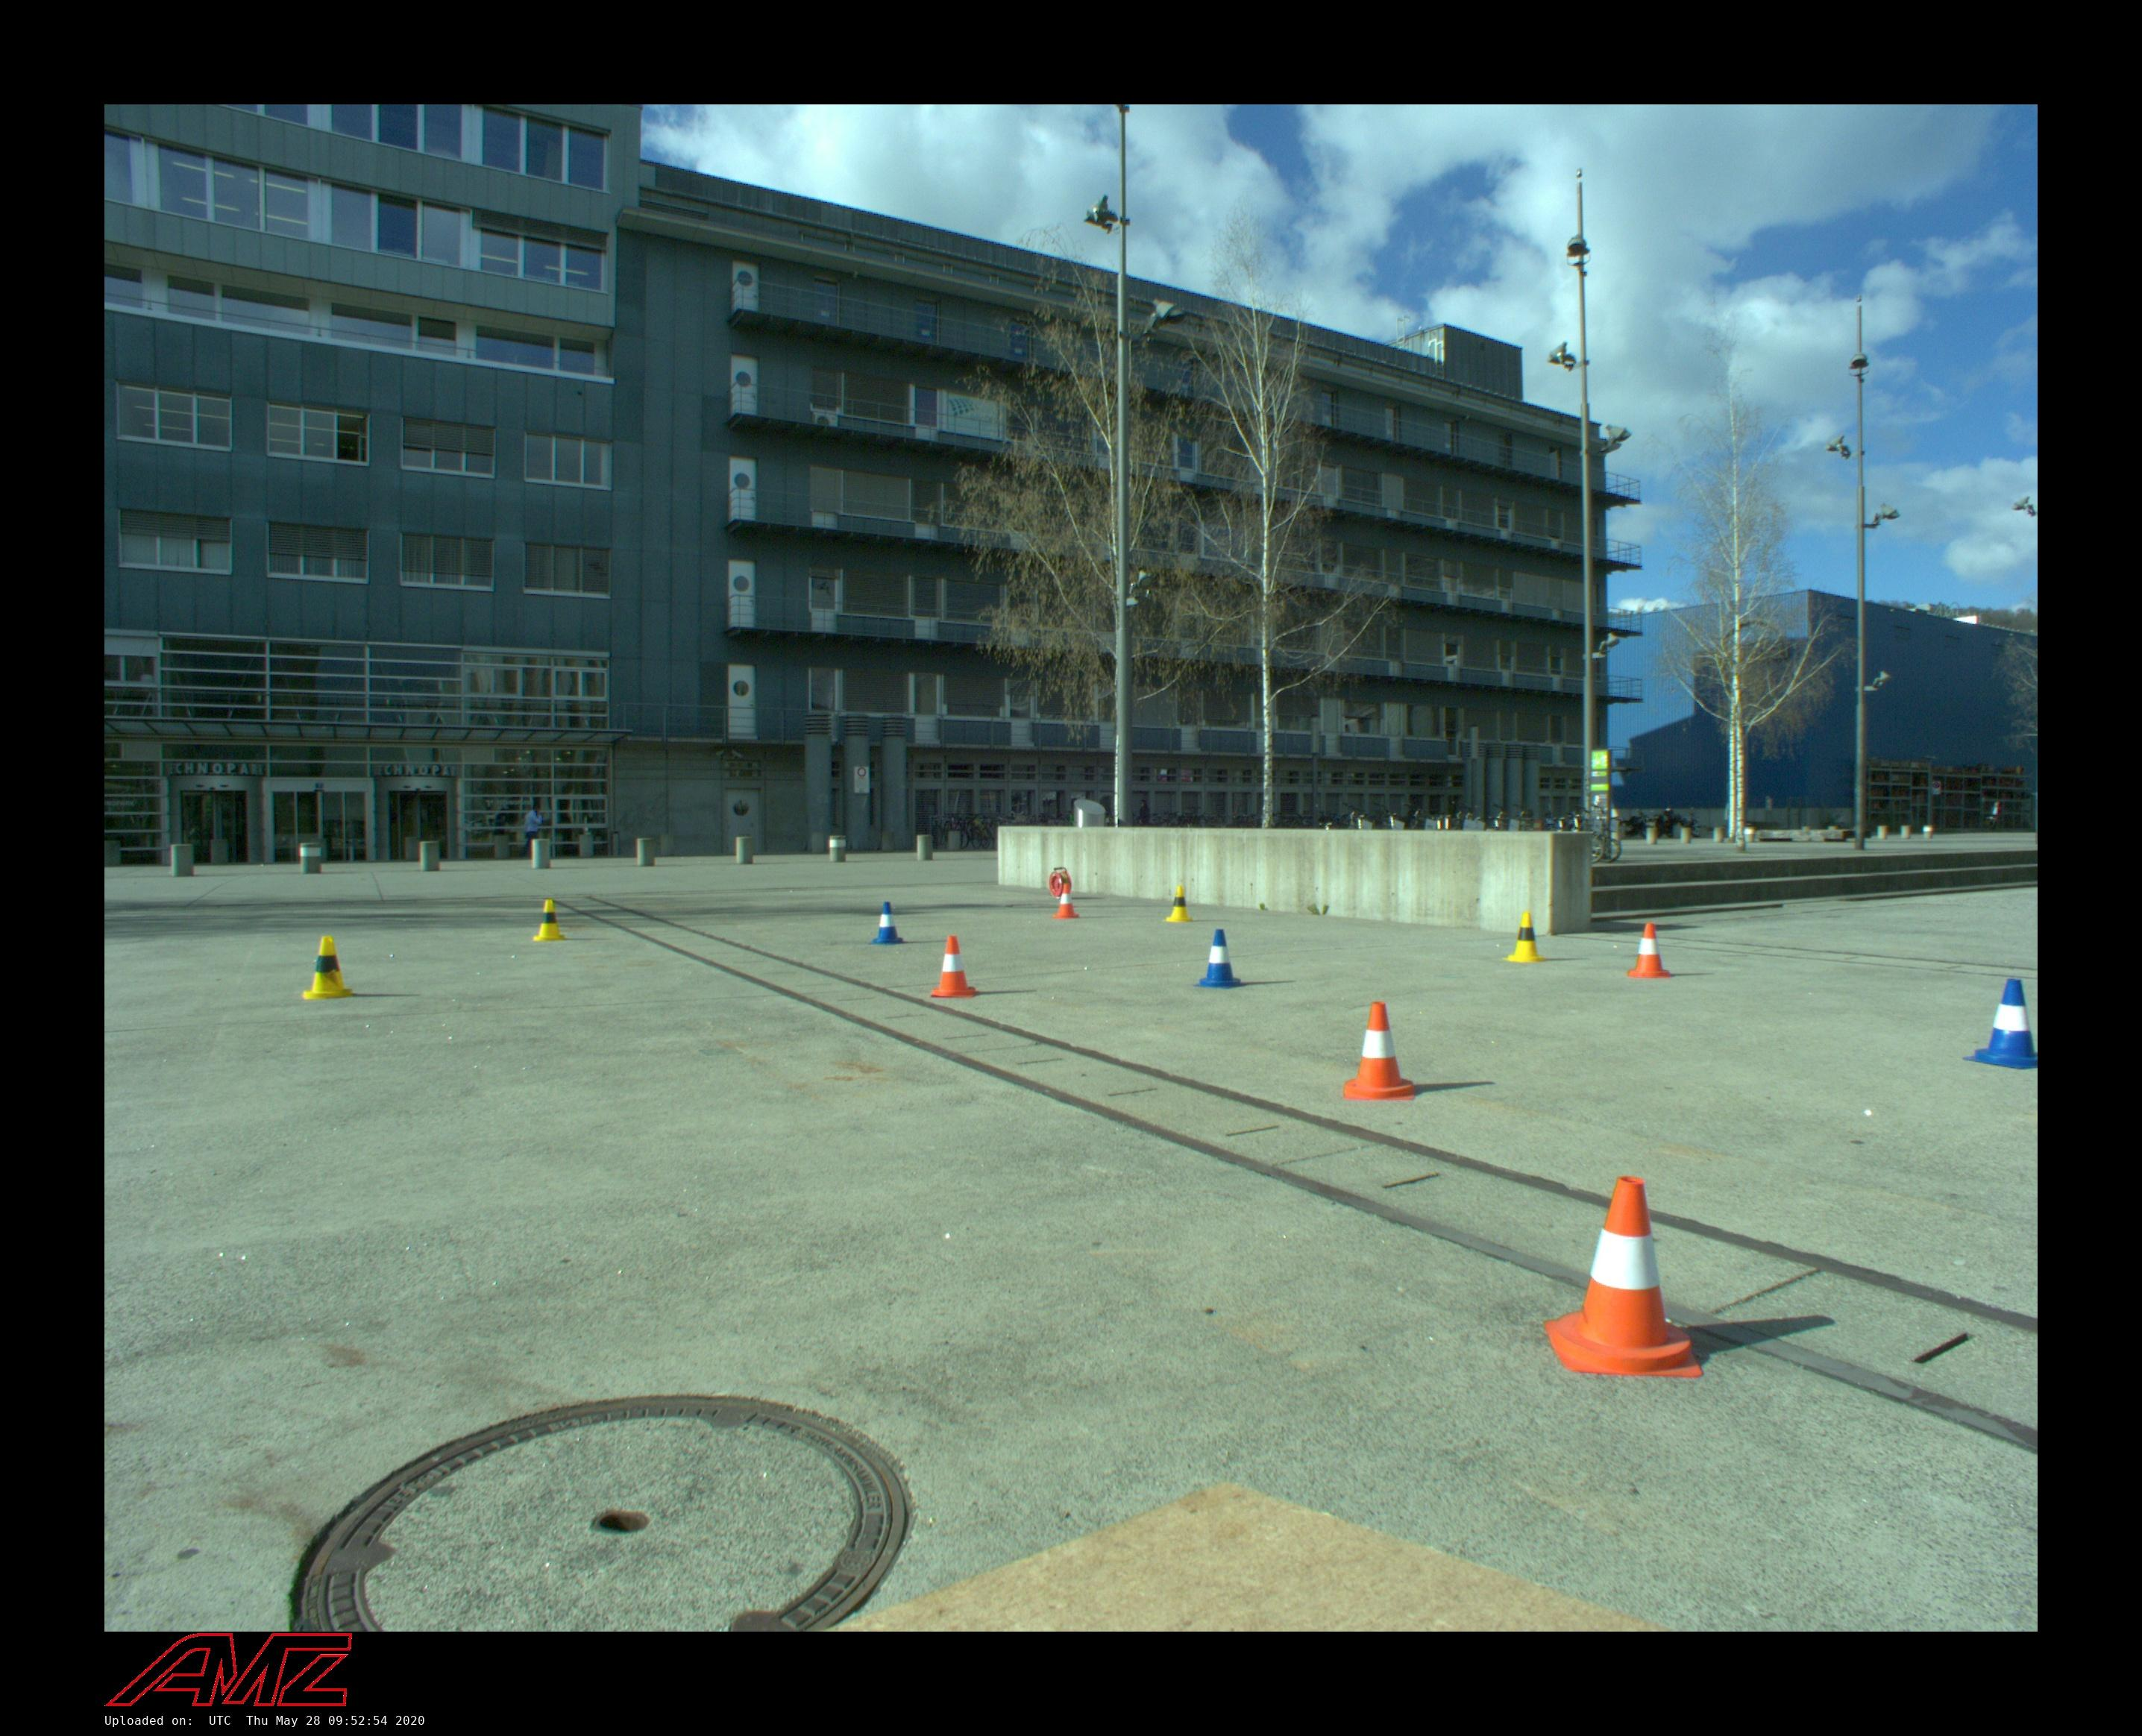blue_cone: (1962, 978, 2037, 1069), (1193, 928, 1248, 990), (870, 901, 906, 945)
orange_cone: (1545, 1177, 1705, 1377), (1343, 1001, 1417, 1101), (930, 935, 977, 998), (1627, 922, 1671, 978), (1052, 883, 1081, 919)
yellow_cone: (302, 936, 356, 999), (1503, 912, 1545, 963), (533, 899, 565, 942), (1164, 885, 1194, 922)
